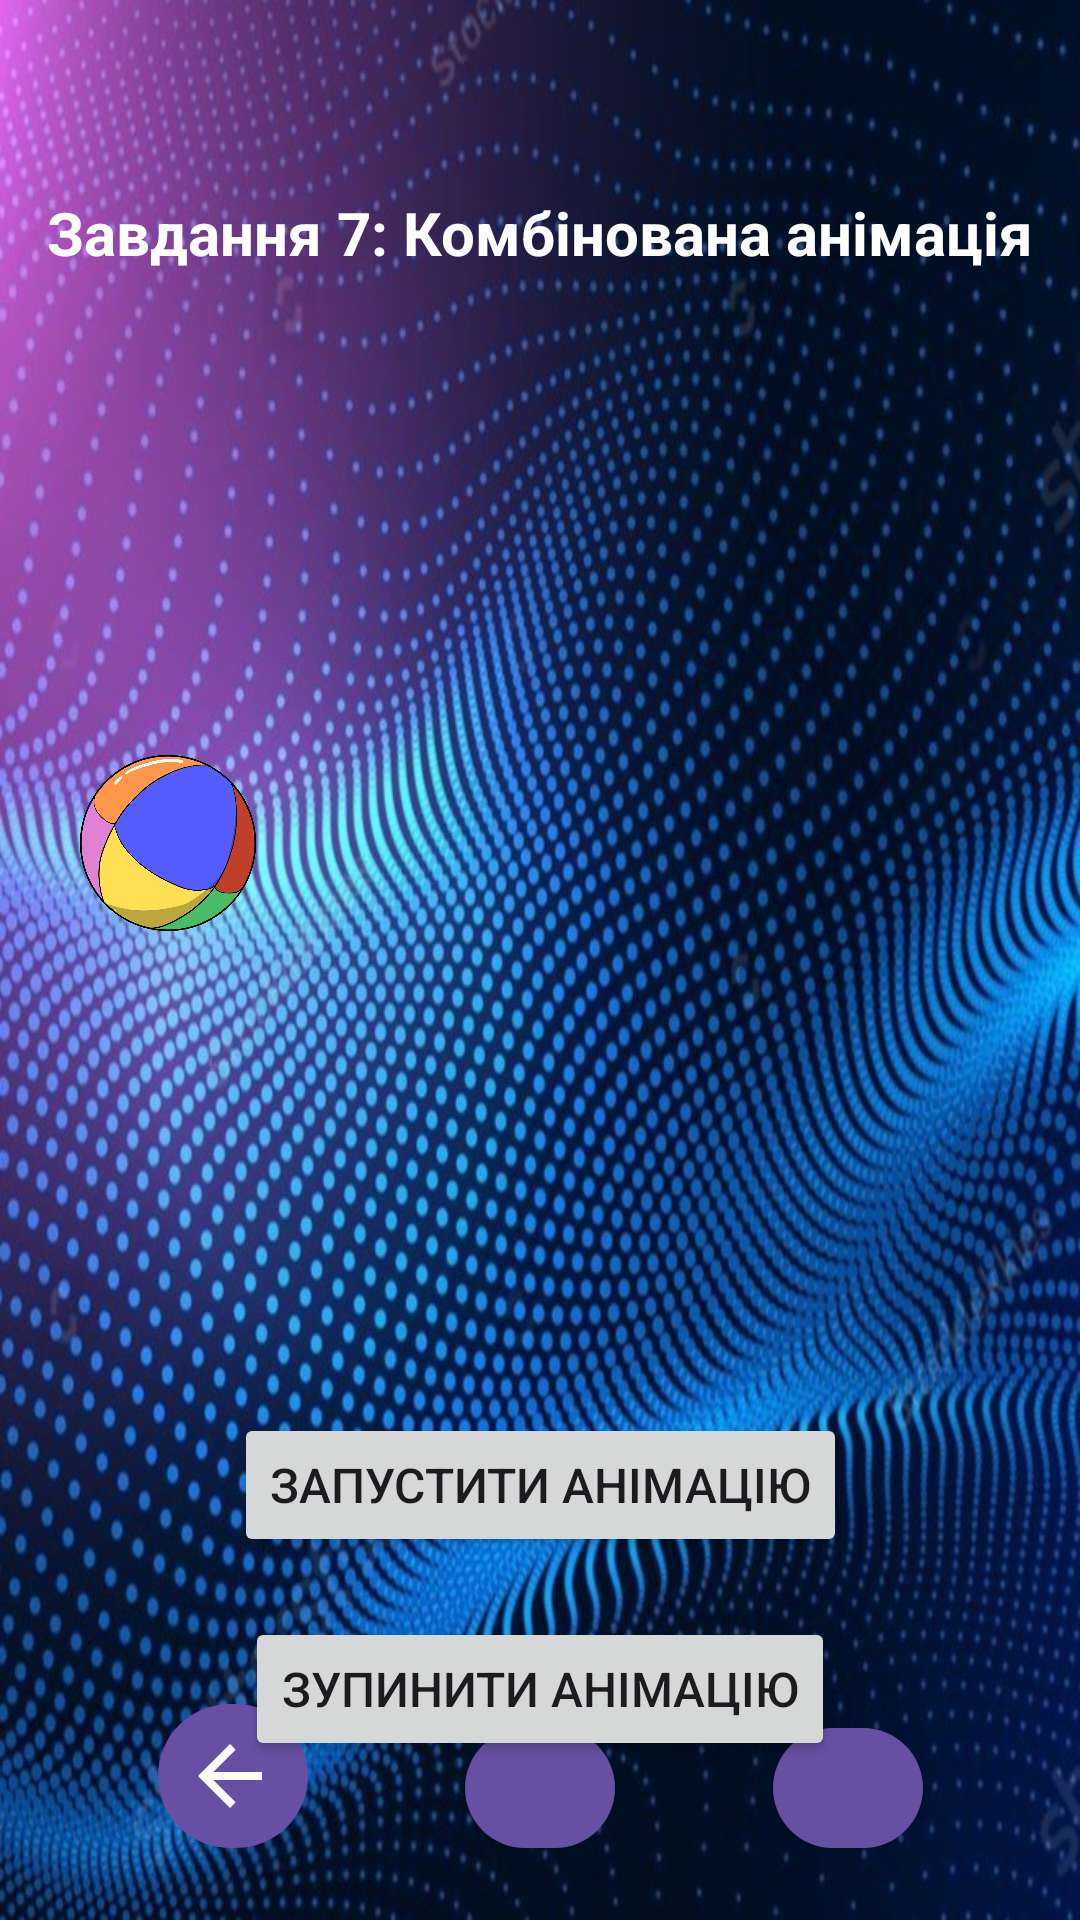

Icon click points for this 1080×1920 phone screenshot, format [x,y]:
Анімоване зображення: [168,843]
Повернутися назад: [233,1776]
